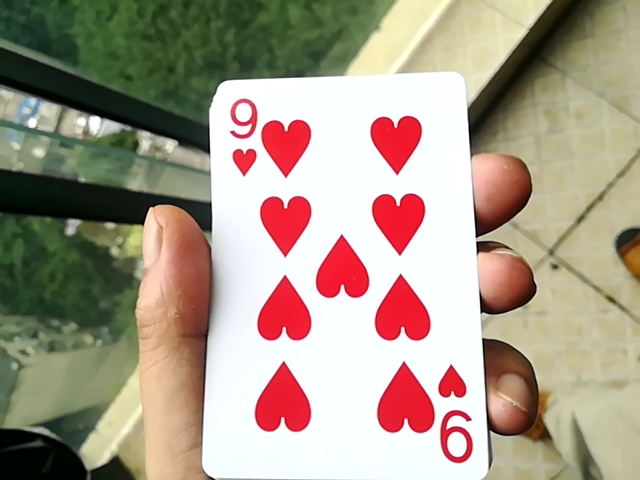hx 9: (181, 68, 483, 480)
